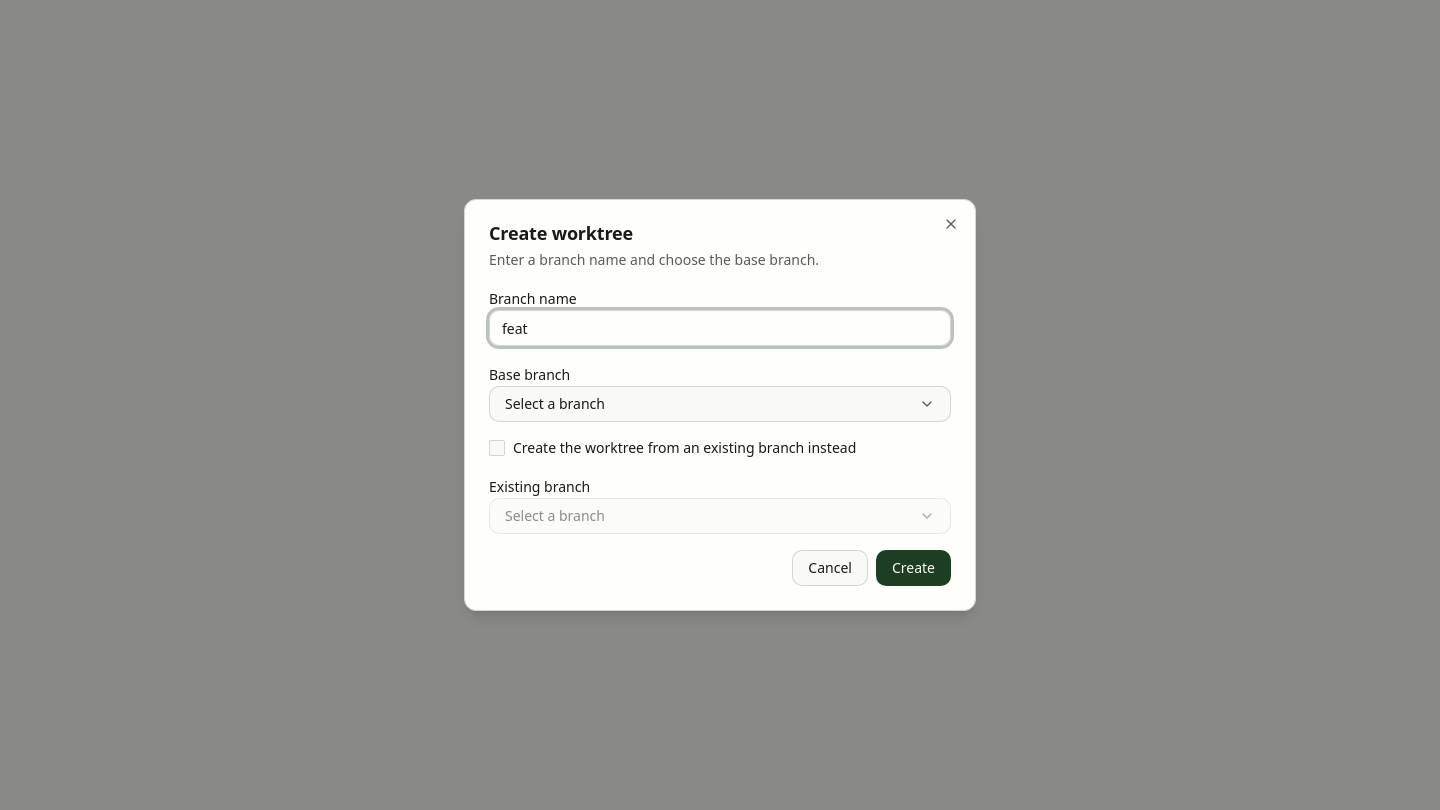
CreateWorktreeModal › shows selection error when base is not in branch list on submit
This screenshot has width=1440, height=810.
Click the button "Create" at x=913, y=568, box [876,550,951,586]
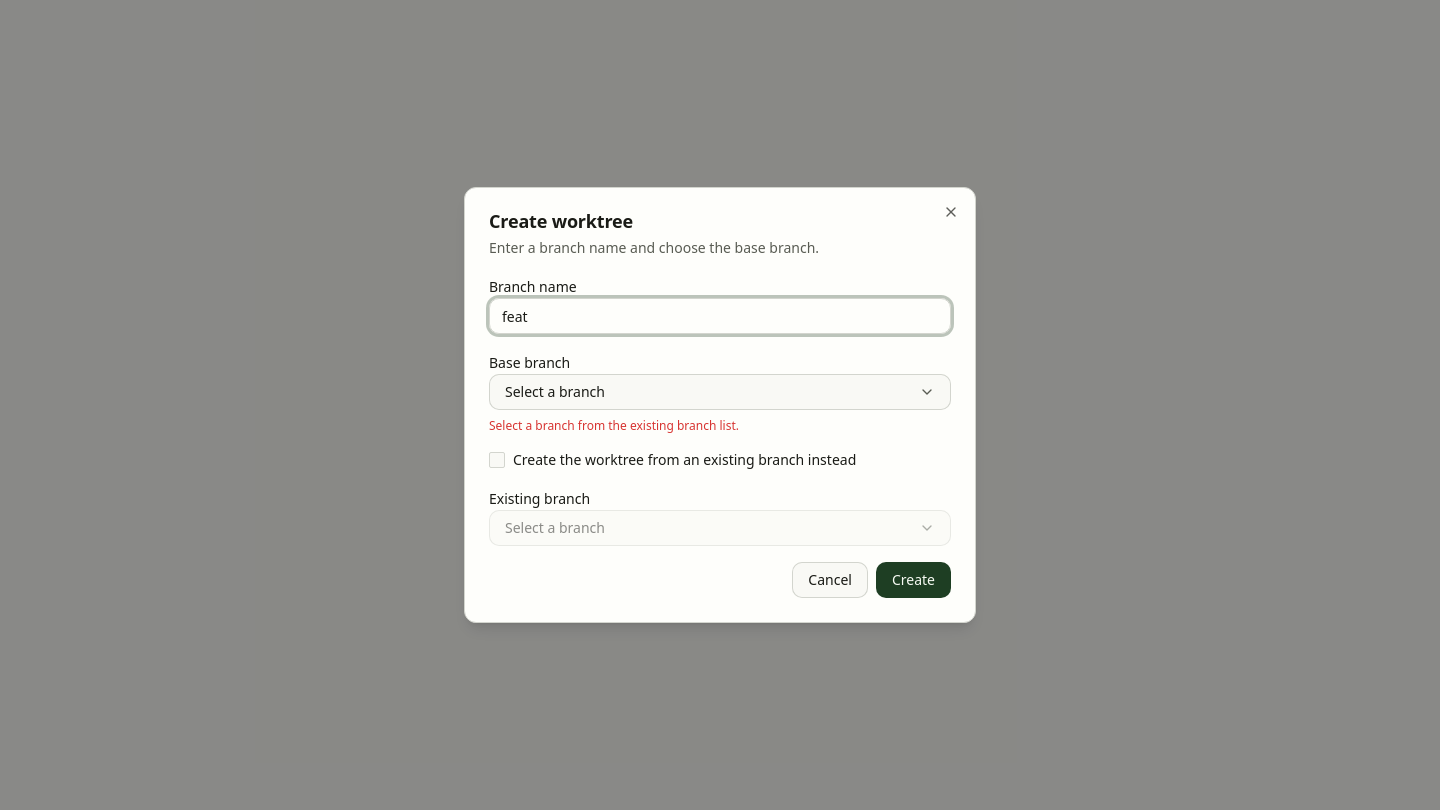
Expected: the text "Select a branch from the existing branch list." is shown, [489,417,739,434]
